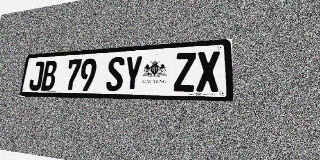7: (64, 59, 82, 91)
9: (79, 58, 97, 91)
B: (41, 60, 58, 91)
J: (28, 61, 45, 91)
S: (105, 56, 125, 91)
X: (196, 51, 220, 92)
Y: (123, 55, 143, 91)
Z: (173, 52, 196, 92)
